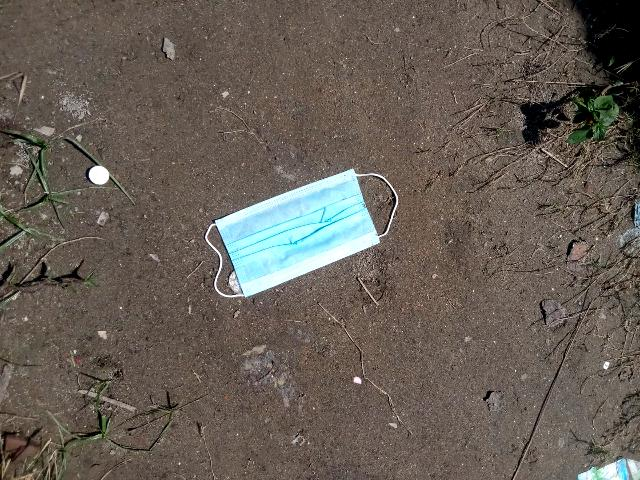mask: (181, 164, 415, 299)
